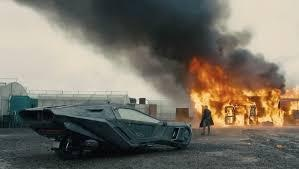fire: (186, 57, 294, 128)
